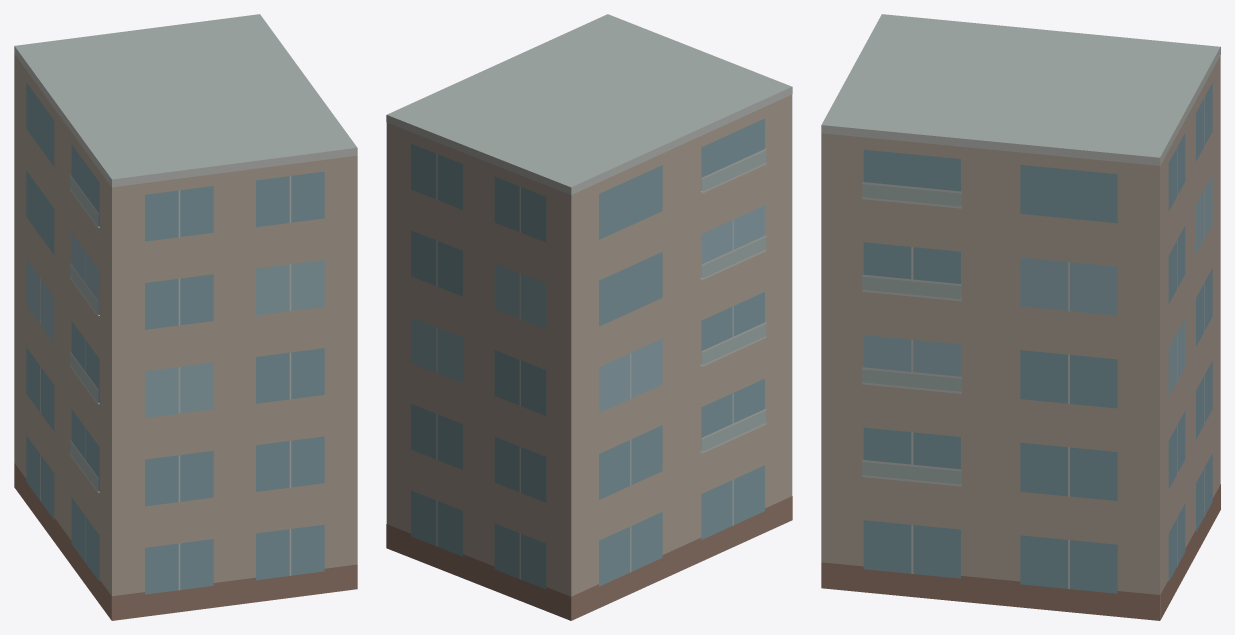
Rendered from survey-upis-32745899.glb.
The picture shows the model from 3 angles, left to right: view 1: azimuth 30°, elevation 25°; view 2: azimuth 150°, elevation 25°; view 3: azimuth 270°, elevation 25°; orthographic projection. The views are drawn at different scales.
Parts seen in each view (by area): view 1: survey-upis-32745899.tmp; view 2: survey-upis-32745899.tmp; view 3: survey-upis-32745899.tmp.
Part boxes in pixels (left/top/right/bottom): survey-upis-32745899.tmp: left=14, top=14, right=357, bottom=620; survey-upis-32745899.tmp: left=386, top=14, right=792, bottom=620; survey-upis-32745899.tmp: left=821, top=14, right=1220, bottom=620.
Size of the model in its own units: 9.19 by 13.8 by 10.79.
